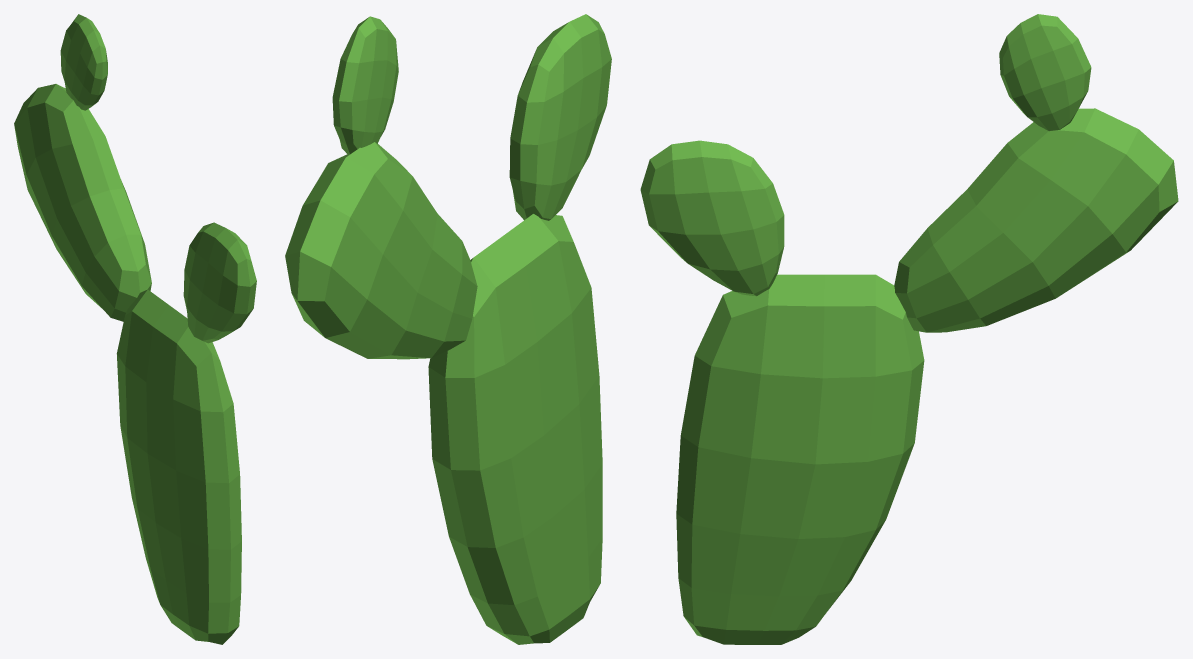
File: nature-cactus-5.glb
3 views of the same model, side by side, from view 1: azimuth 30°, elevation 25°; view 2: azimuth 150°, elevation 25°; view 3: azimuth 270°, elevation 25° (orthographic). The views are drawn at different scales.
Parts seen in each view (by area): view 1: Cactus_5; view 2: Cactus_5; view 3: Cactus_5.
Part boxes in pixels (box(x1,y1,x2,y2)): Cactus_5: box(14, 14, 256, 644); Cactus_5: box(285, 14, 611, 644); Cactus_5: box(640, 14, 1178, 644).
Size of the model in its own units: 11.16 by 88.12 by 68.04.
